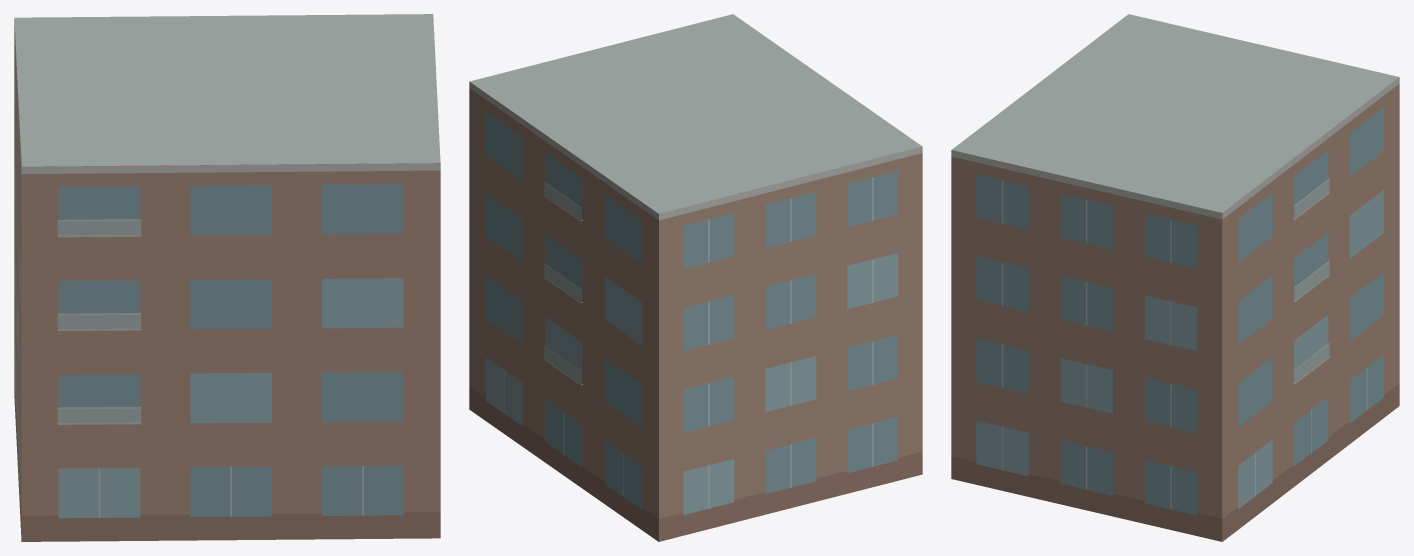
The model's file is residential-8f5b5d06-9e51-4b28-ad00-f33944f098bb.glb.
The picture shows the model from 3 angles, left to right: view 1: azimuth 30°, elevation 25°; view 2: azimuth 150°, elevation 25°; view 3: azimuth 270°, elevation 25°; orthographic projection. The views are drawn at different scales.
Parts seen in each view (by area): view 1: residential-8f5b5d06-9e51-4b28-ad00-f33944f098bb.tmp; view 2: residential-8f5b5d06-9e51-4b28-ad00-f33944f098bb.tmp; view 3: residential-8f5b5d06-9e51-4b28-ad00-f33944f098bb.tmp.
Part boxes in pixels (x1,y1,x2,y2): residential-8f5b5d06-9e51-4b28-ad00-f33944f098bb.tmp: [14, 14, 440, 541]; residential-8f5b5d06-9e51-4b28-ad00-f33944f098bb.tmp: [469, 14, 922, 541]; residential-8f5b5d06-9e51-4b28-ad00-f33944f098bb.tmp: [951, 14, 1399, 541].
Bounding box in the file's own units: 15.83 × 12.2 × 15.07.
